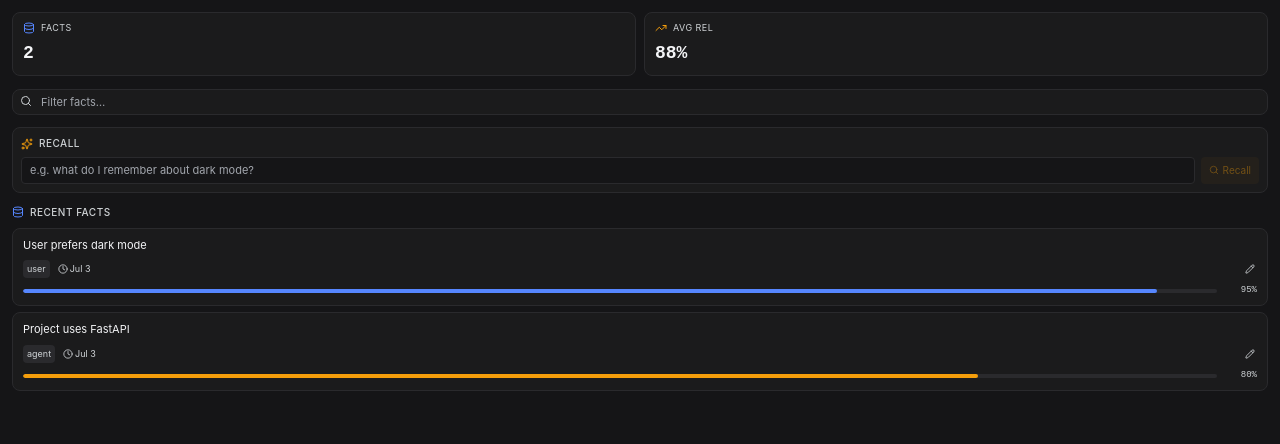
it: MemoryTab fact editing › shows an error when saving the edit fails
Click the button with test id "fact-edit-btn-f1".
click(1250, 269)  # box [1243,262,1257,276]
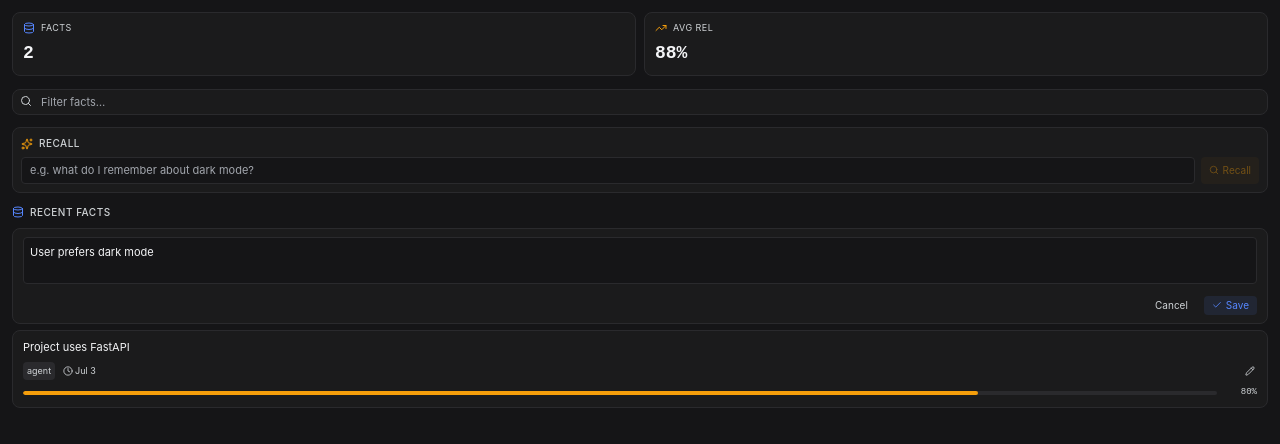
Replace the text in the text box with test id "fact-edit-input-f1" with "new text" at [640, 260], box [23,236,1257,284]
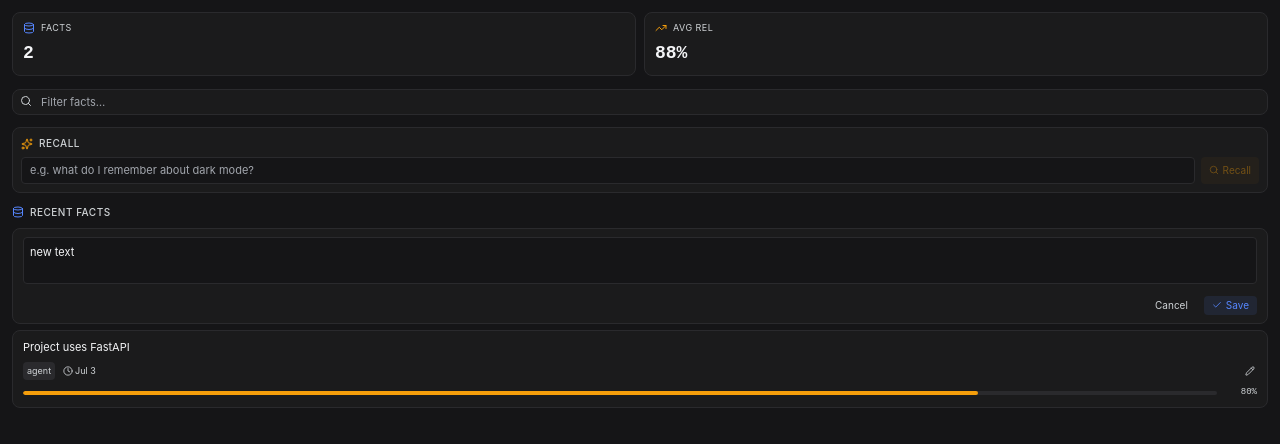
Click the button with test id "fact-edit-save-f1".
click(1230, 305)  # box [1204,296,1257,314]
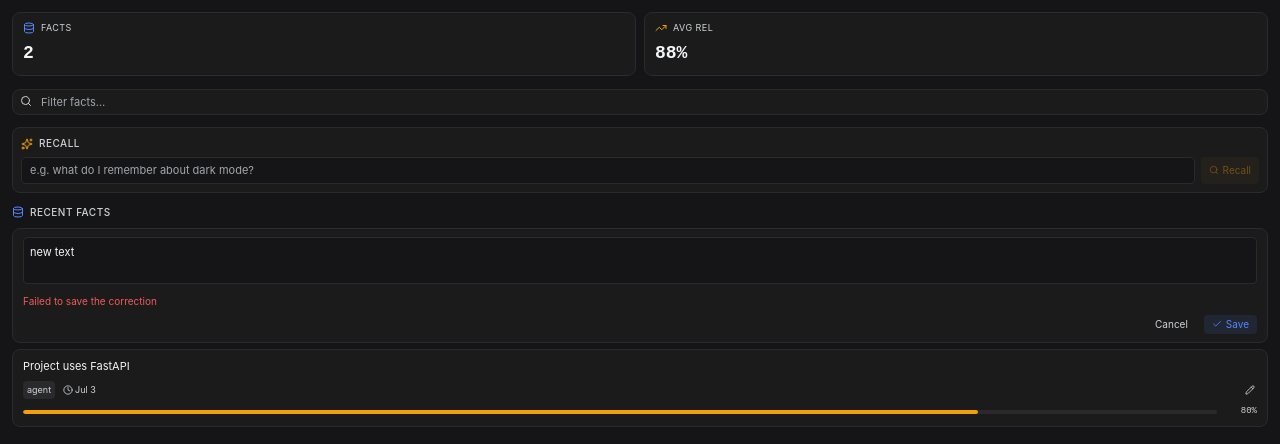
Expected: the text "Failed to save the correction" is shown, [23,294,157,306]
